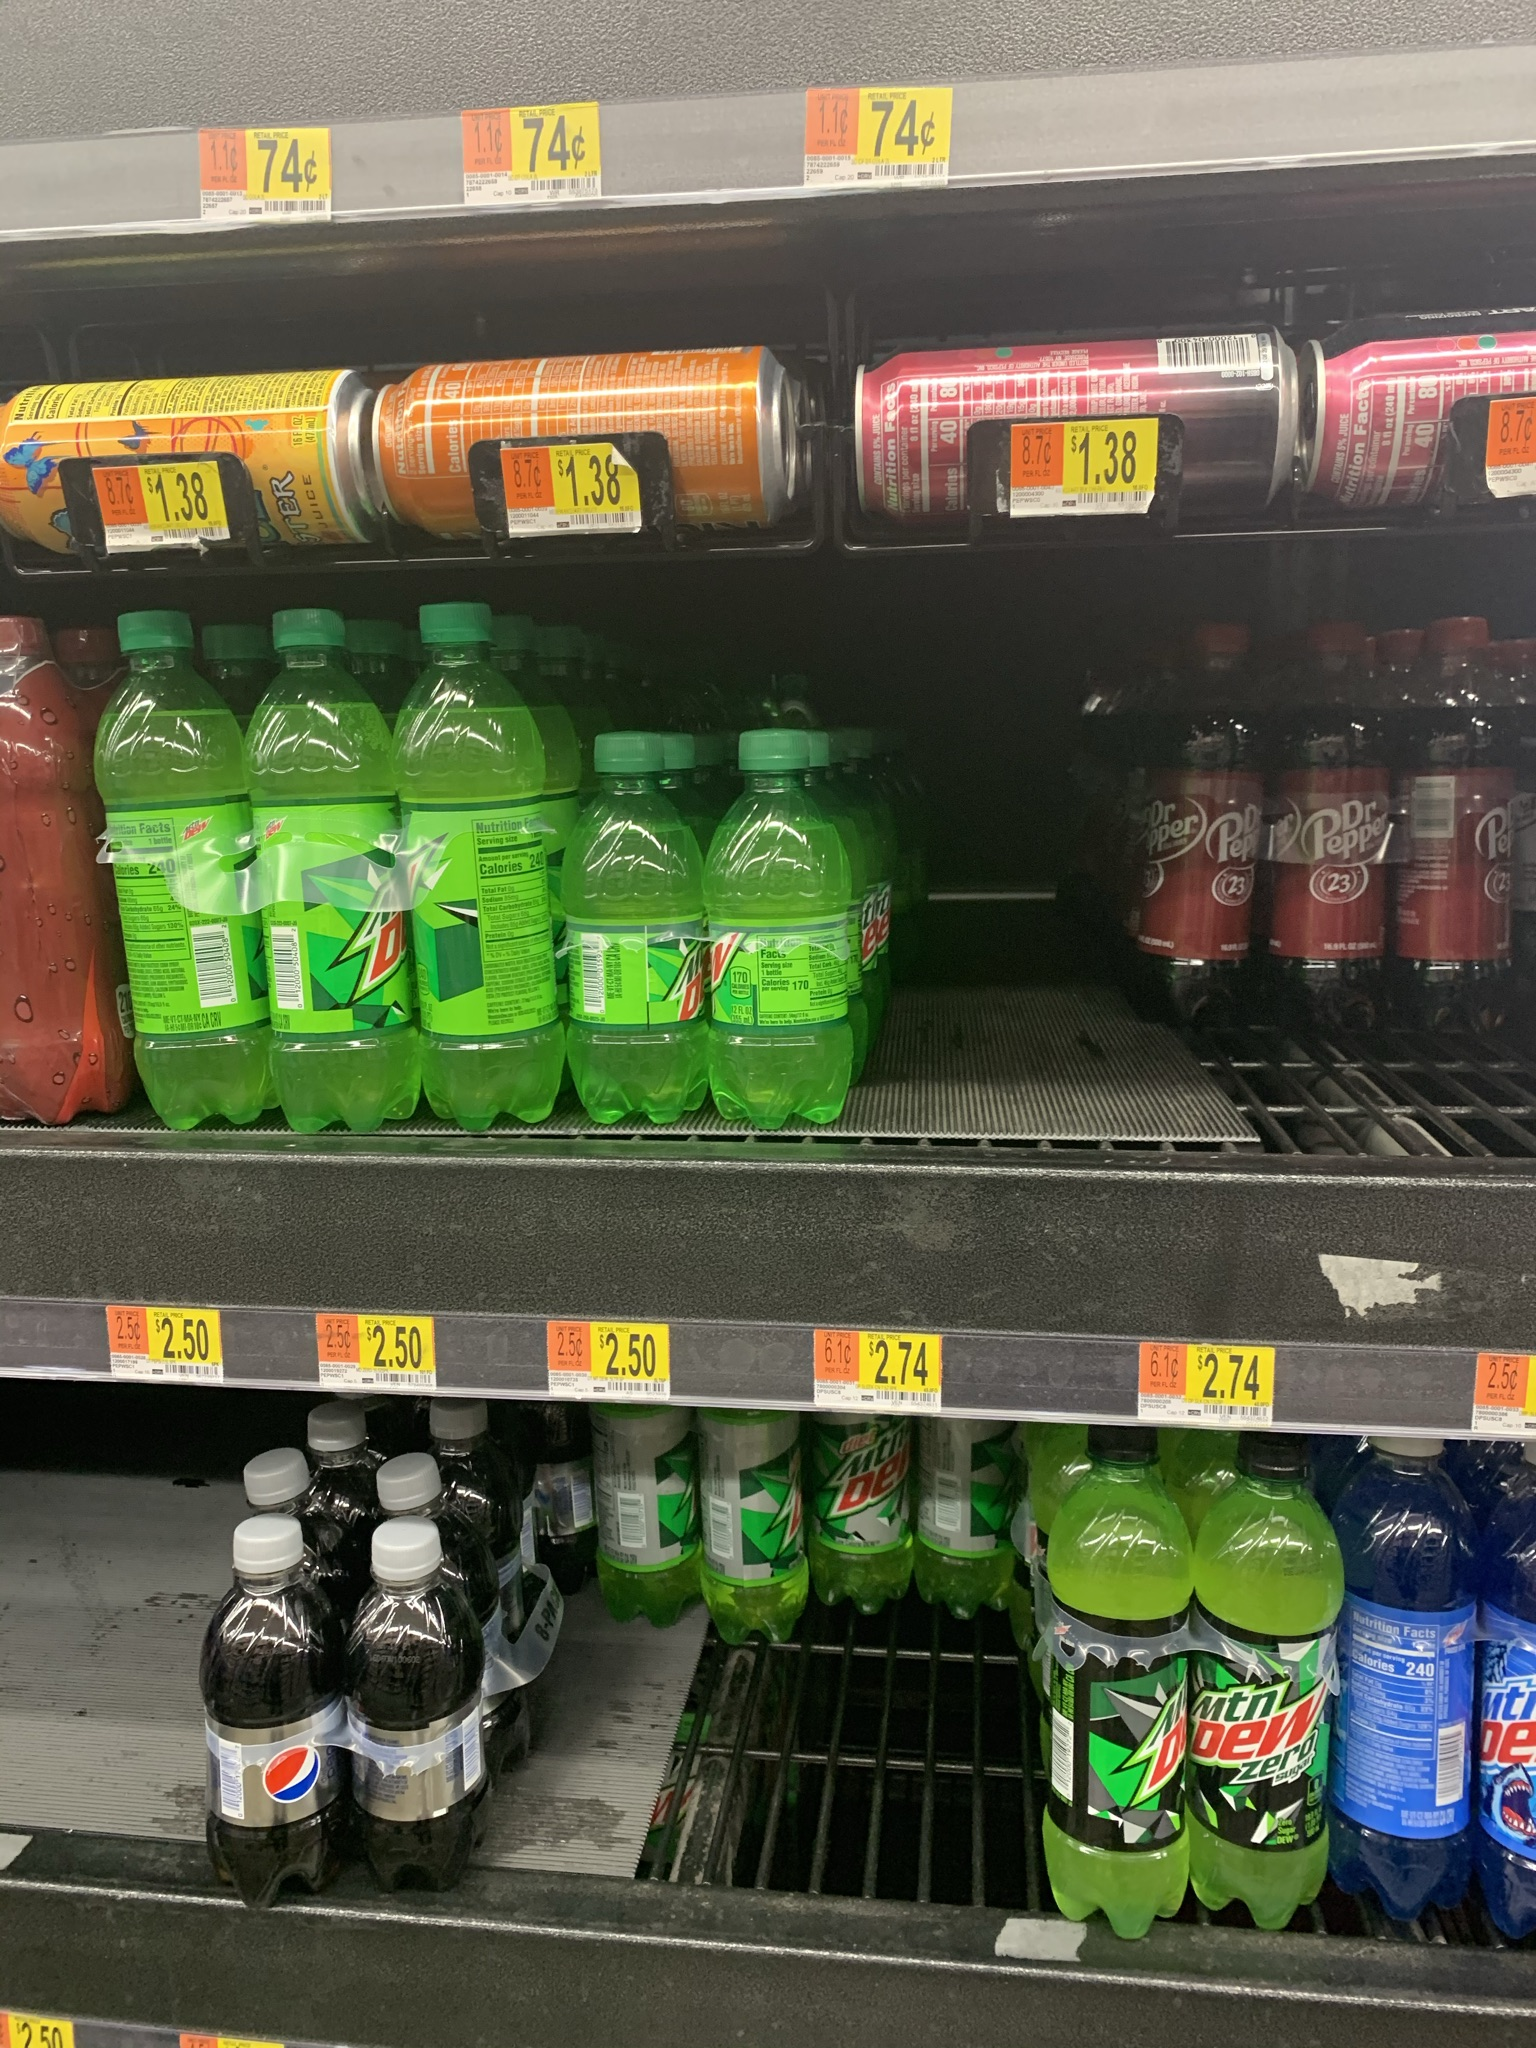Soda: (252, 610, 424, 1143), (95, 611, 269, 1138), (397, 598, 560, 1140), (1046, 1424, 1192, 1942), (1192, 1434, 1344, 1934), (700, 727, 866, 1127), (1346, 1434, 1476, 1938), (337, 1522, 489, 1903), (563, 726, 705, 1130), (1267, 616, 1391, 1043), (1397, 616, 1520, 1047), (203, 1516, 334, 1914), (1142, 619, 1258, 1024), (703, 1413, 812, 1650)
